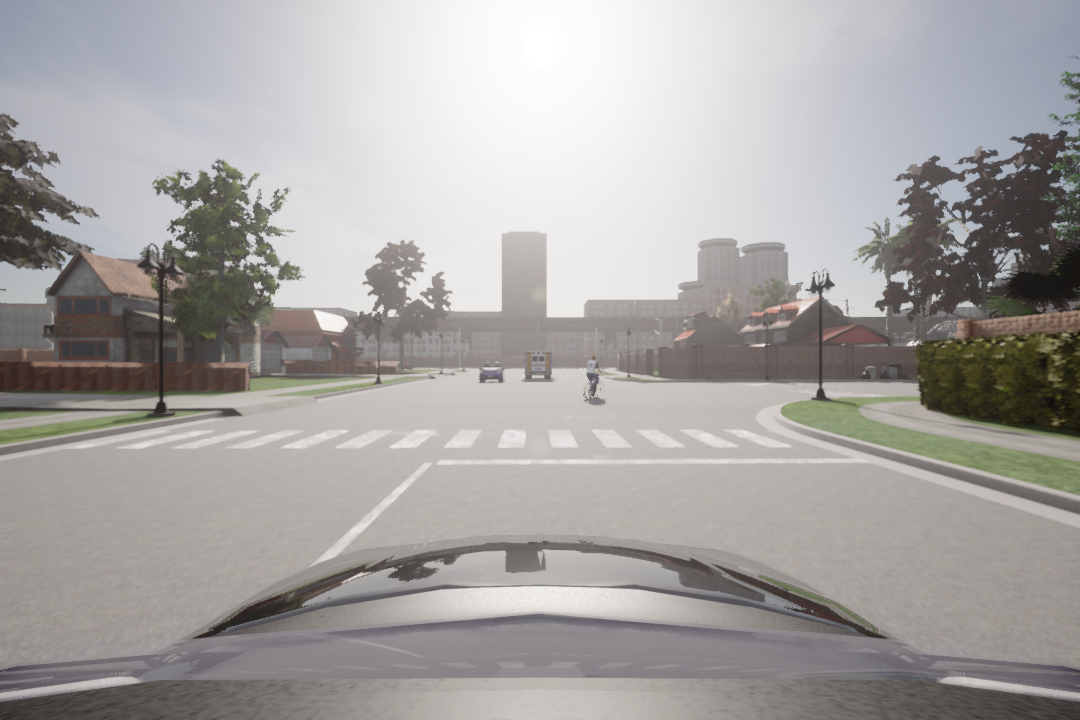walkside: (69, 424, 817, 449)
